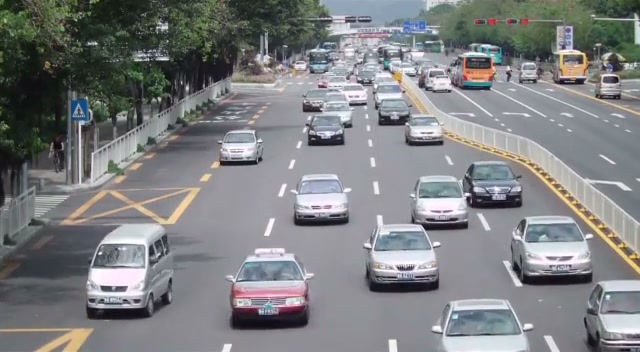bus: (450, 52, 495, 89)
car: (85, 222, 175, 319), (225, 251, 315, 328), (510, 215, 594, 285), (431, 298, 534, 352), (362, 222, 442, 291), (583, 279, 640, 352), (409, 174, 470, 230), (291, 173, 351, 226), (462, 161, 523, 208), (218, 130, 264, 165), (307, 113, 345, 146), (404, 115, 443, 146), (320, 97, 354, 128), (377, 98, 411, 126), (373, 83, 404, 108), (594, 73, 622, 99), (340, 83, 368, 106)
truck: (553, 50, 588, 84), (519, 63, 538, 84)
